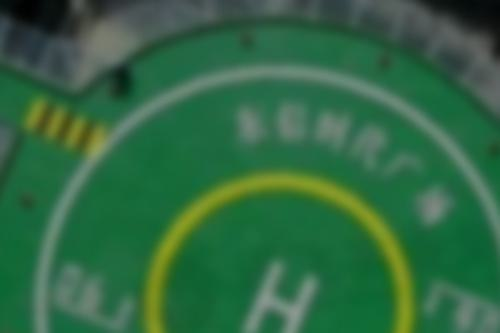Apron: (138, 169, 423, 333)
